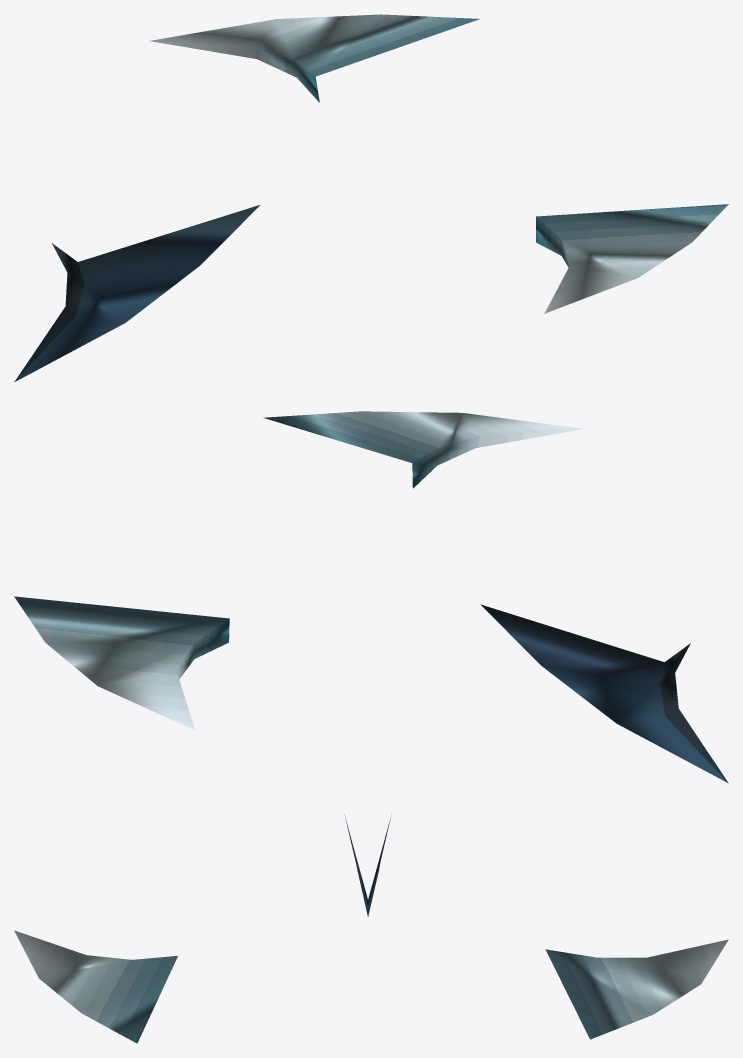
File: GreatWhite_Default.glb
The picture shows the model from 3 angles, top to bottom: view 1: azimuth 30°, elevation 25°; view 2: azimuth 150°, elevation 25°; view 3: azimuth 270°, elevation 25°; orthographic projection. The views are drawn at different scales.
Parts seen in each view (by area): view 1: GreatWhite_Default; view 2: GreatWhite_Default; view 3: GreatWhite_Default.
Boxes of the visible parts, x1,y1,x2,y2 form: GreatWhite_Default: (14,14,728,381); GreatWhite_Default: (14,411,728,783); GreatWhite_Default: (14,815,728,1043).
Bounding box in the file's own units: 5.39 × 1.22 × 6.2.
Materials: 1 (1 with a texture image).
